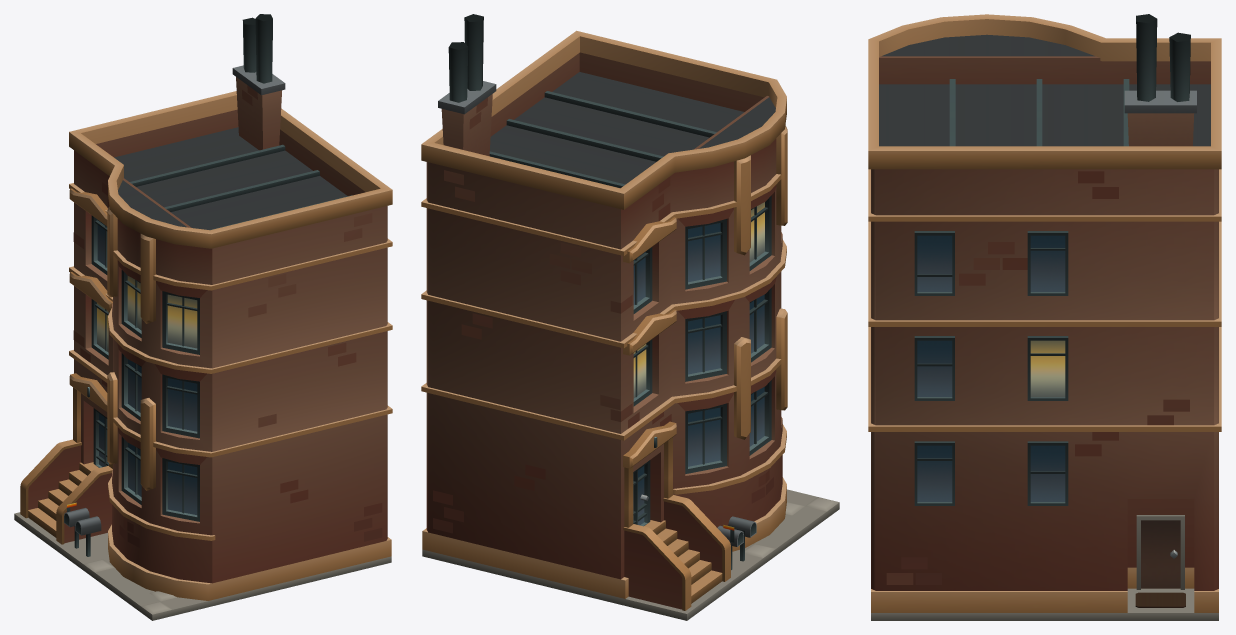
File: Building_4A.fbx
The picture shows the model from 3 angles, left to right: view 1: azimuth 30°, elevation 25°; view 2: azimuth 150°, elevation 25°; view 3: azimuth 270°, elevation 25°; orthographic projection. The views are drawn at different scales.
Visible parts, largest first — view 1: Building_4A, Window_Lights_4A; view 2: Building_4A, Window_Lights_4A; view 3: Building_4A, Window_Lights_4A.
Boxes of the visible parts, x1,y1,x2,y2 form: Building_4A: (14,14,392,620); Window_Lights_4A: (97,276,197,352); Building_4A: (421,14,839,620); Window_Lights_4A: (633,202,764,398); Building_4A: (868,14,1221,620); Window_Lights_4A: (1030,340,1065,397).
Bounding box in the file's own units: 12.05 × 22.51 × 12.2.
